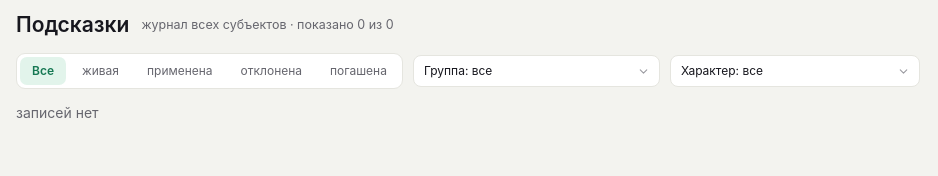
Test case: раздел «Подсказки» › отличает пустой журнал от пустого результата фильтра
Expected: the text "записей нет" is shown, [16,104,99,121]
Click the radio button labelled "живая" at (100,71), box [70,57,131,85]
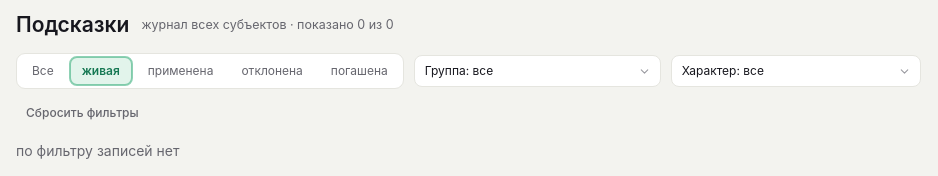
Result: the text "по фильтру записей нет" is shown at [16,142,180,159]
